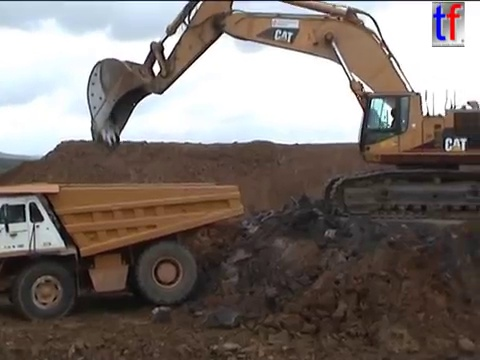excavator: (82, 1, 480, 224)
truck: (1, 179, 246, 324)
